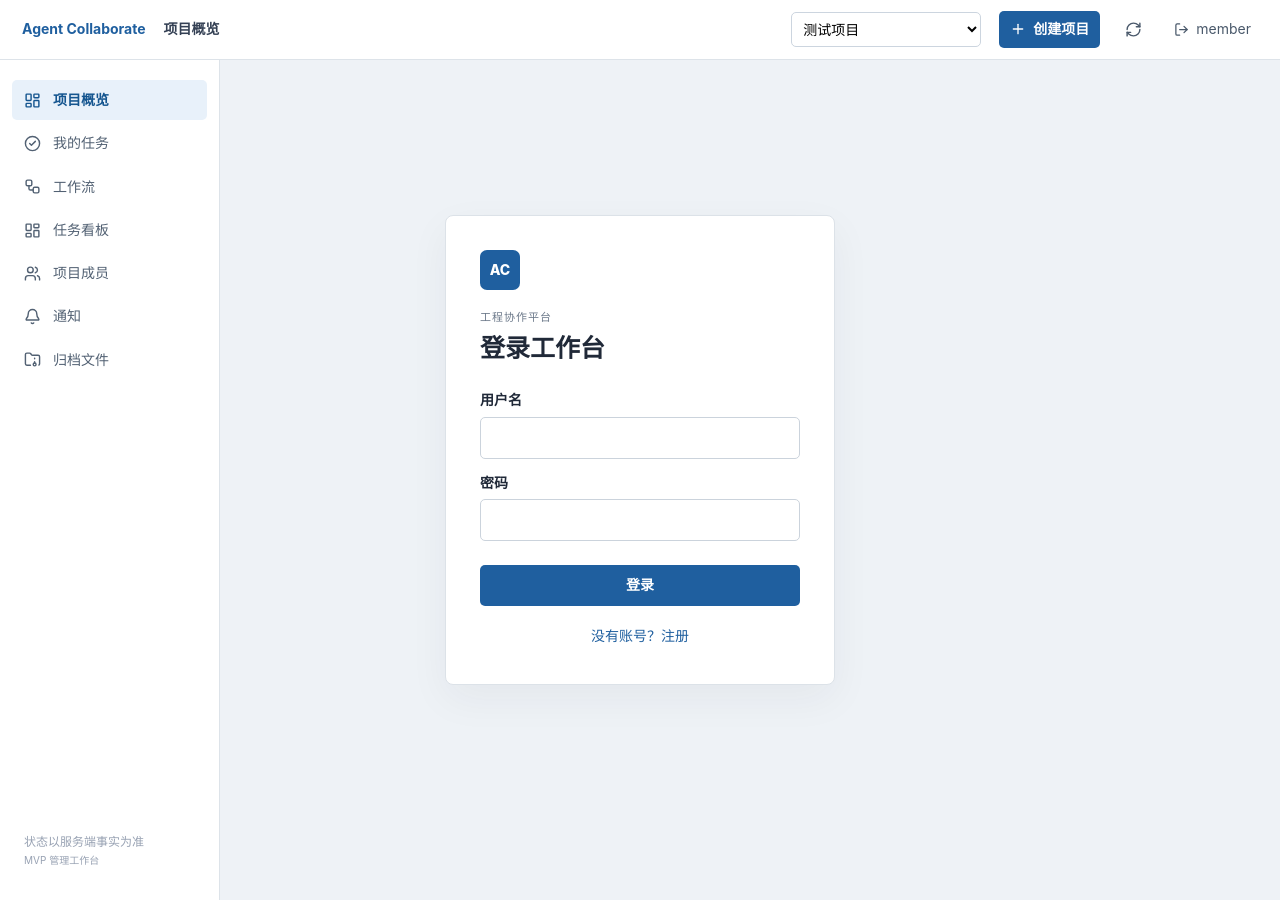
project-scoped navigation › shows waiting text instead of plan approval for a project member
Click the button "工作流".
click(110, 187)  # box left=12, top=167, right=207, bottom=207
(page scrolled)
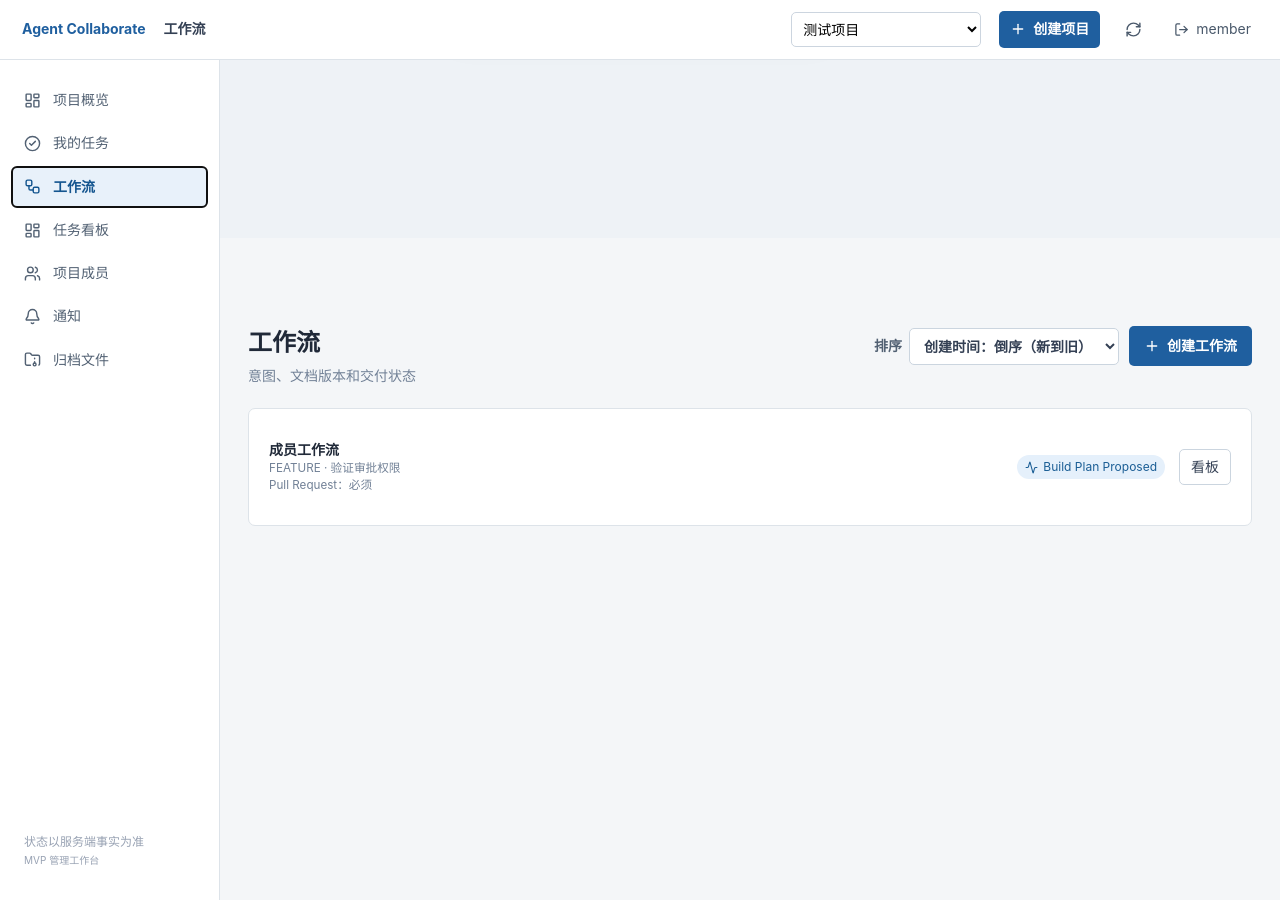
Click the text "成员工作流".
click(304, 450)  # box left=269, top=441, right=339, bottom=458
(page scrolled)
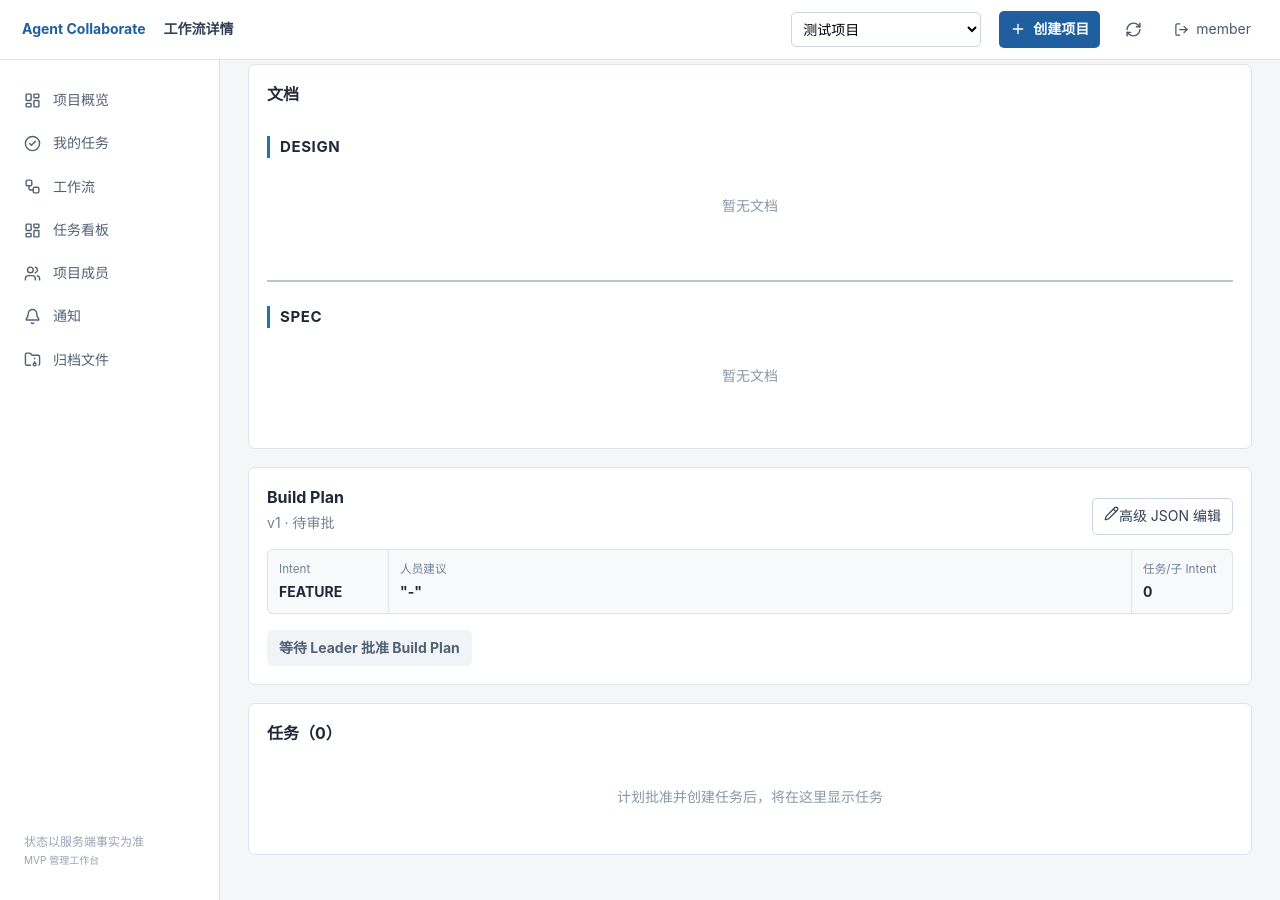
Expected: the text "等待 Leader 批准 Build Plan" is shown, left=267, top=630, right=472, bottom=666
